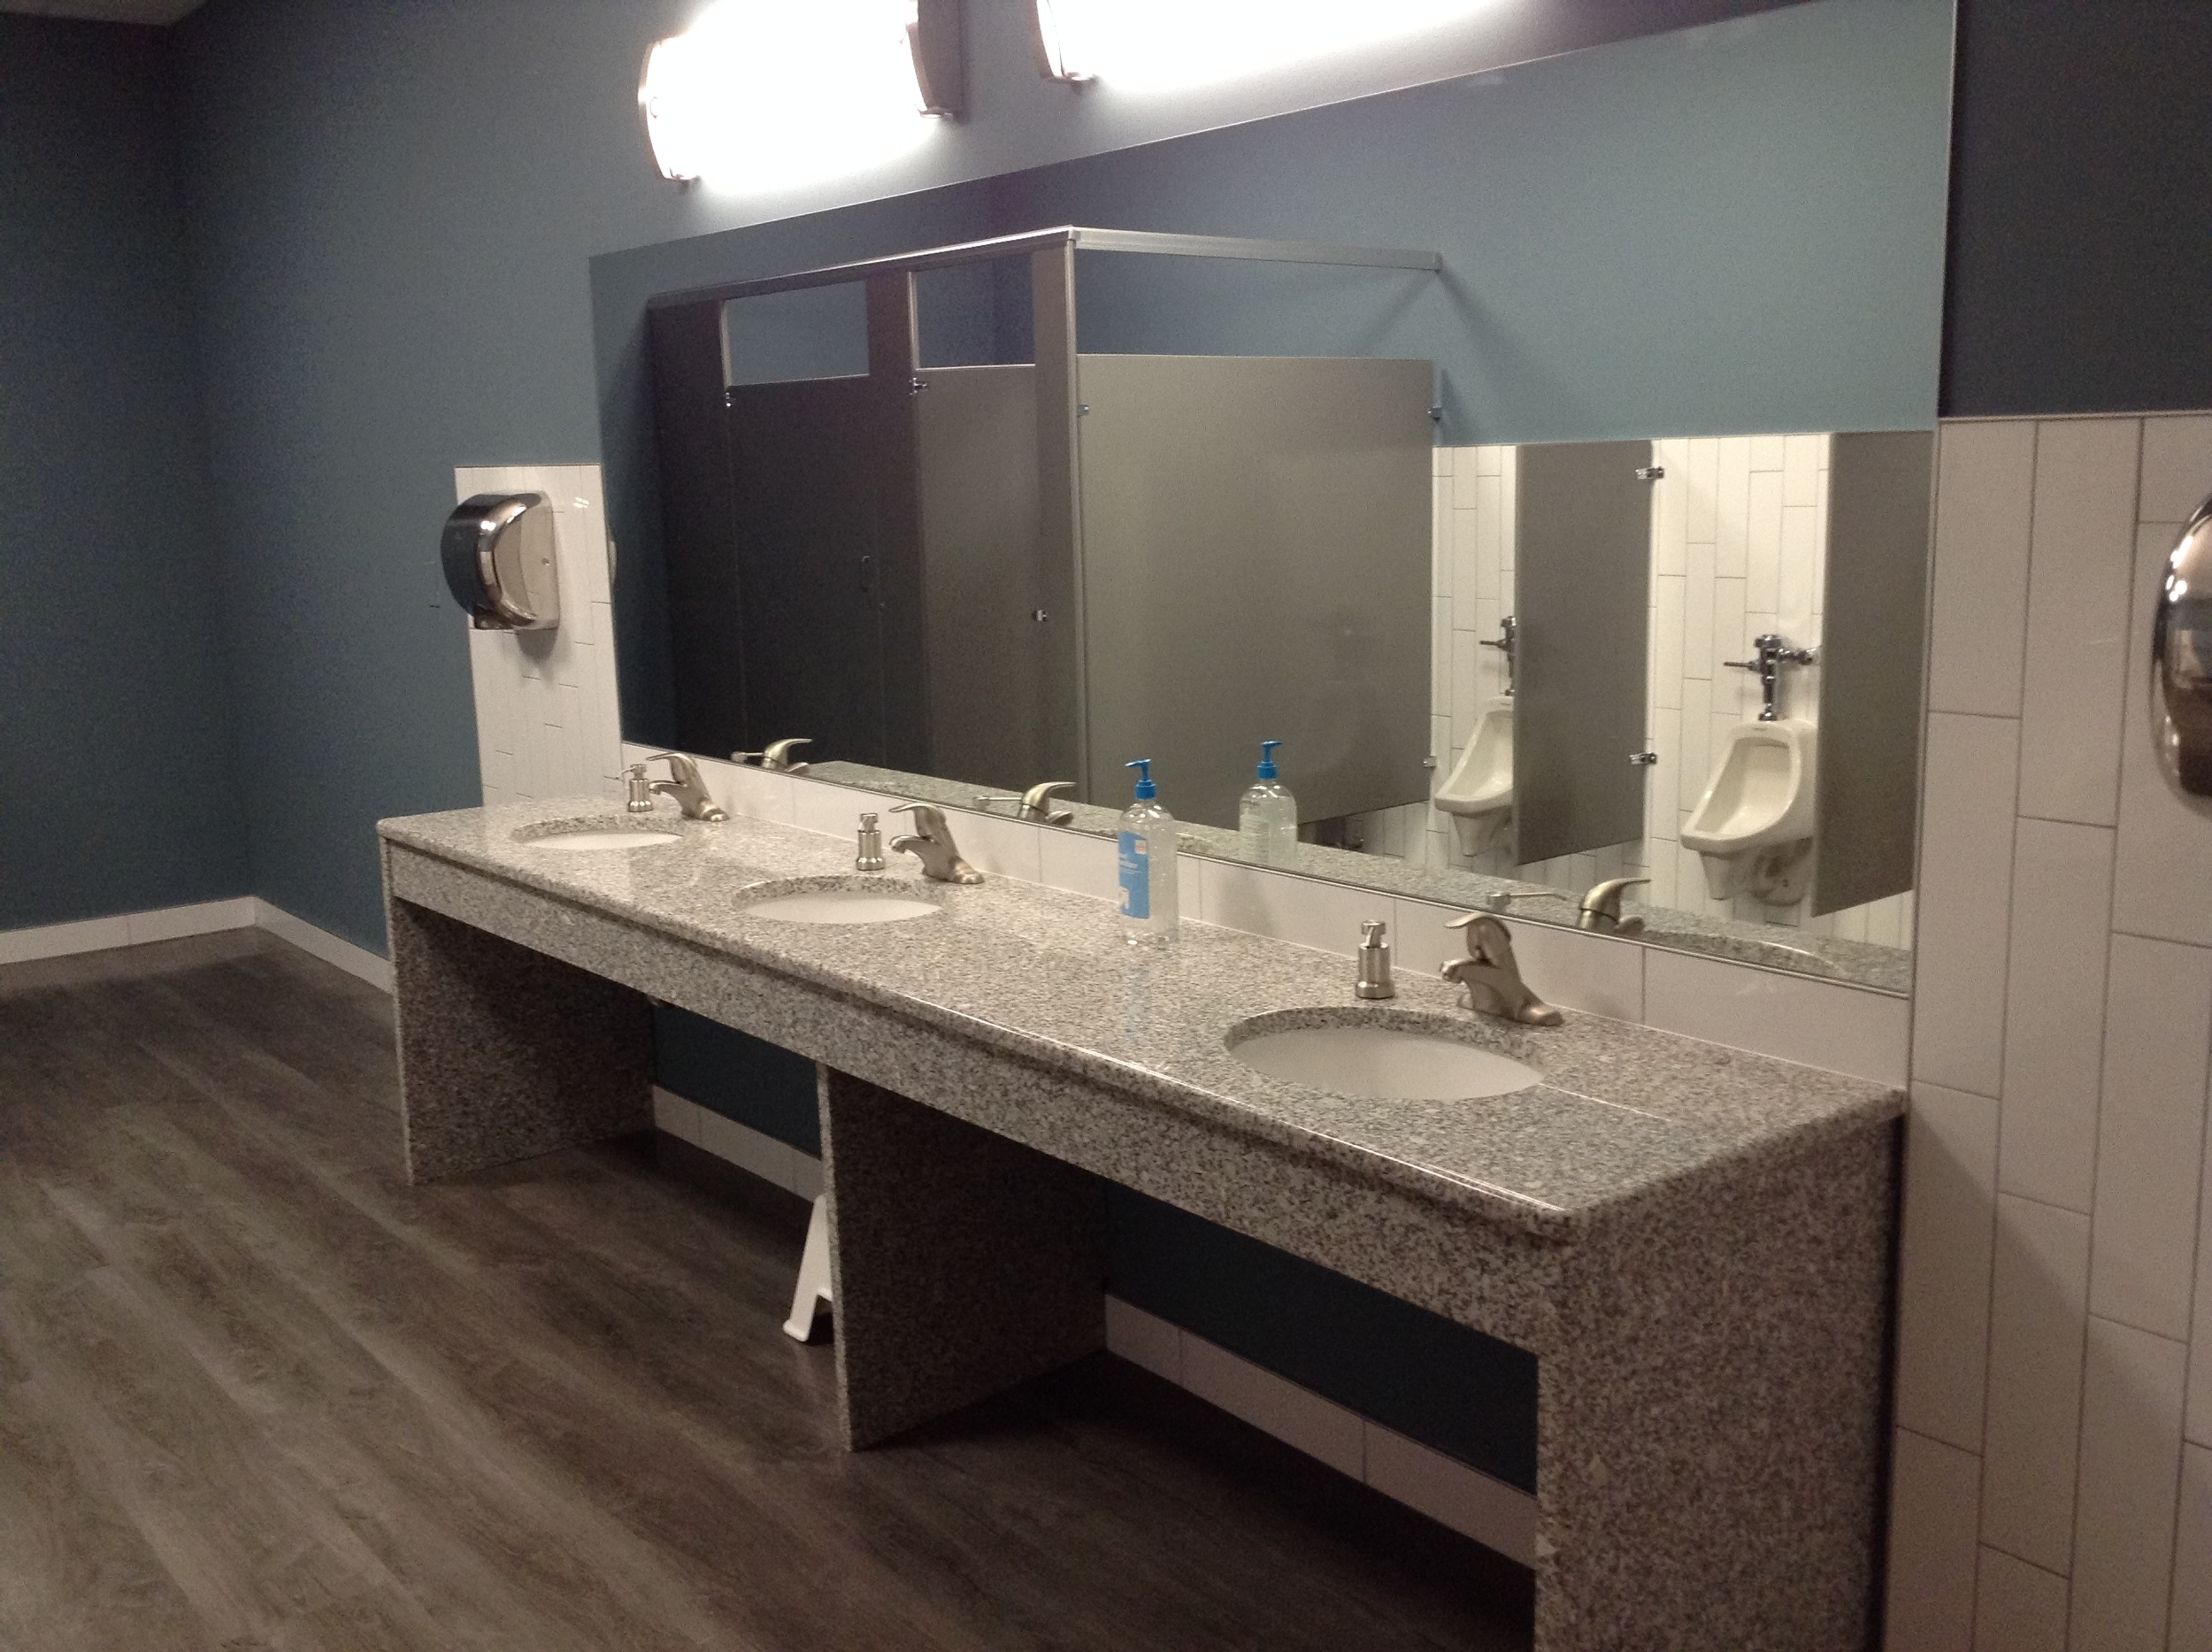counter: (373, 790, 1908, 1629)
countertop: (385, 803, 1898, 1218)
dispenser: (2141, 496, 2212, 812), (1096, 746, 1194, 953), (439, 495, 562, 628)
faucet: (1355, 911, 1563, 1029), (855, 803, 987, 883), (628, 753, 730, 824)
sink: (1223, 1006, 1549, 1100), (732, 878, 942, 927), (515, 814, 687, 852)
toilet: (1683, 611, 1829, 862), (1426, 616, 1551, 816)
toilet_handle: (1723, 652, 1768, 680), (1463, 633, 1508, 659)
